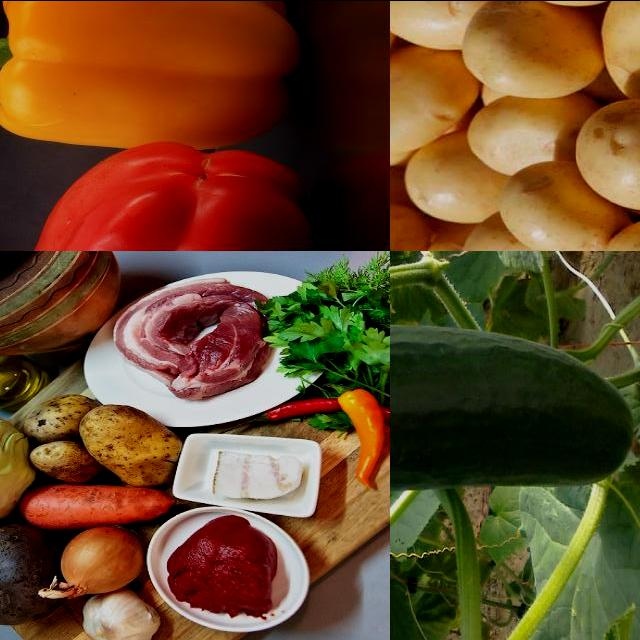beet: (1, 530, 59, 616)
bell_pepper: (19, 143, 316, 251)
carrot: (30, 483, 168, 530)
cucumber: (391, 319, 635, 523)
garlic: (82, 600, 163, 640)
onion: (53, 528, 135, 594)
potato: (463, 1, 610, 97), (472, 91, 605, 176), (391, 45, 483, 166), (504, 162, 626, 251), (407, 134, 509, 219), (577, 93, 640, 211), (78, 411, 178, 479), (391, 1, 508, 50), (467, 214, 602, 251), (23, 397, 86, 434), (391, 206, 436, 251), (40, 439, 90, 479)
